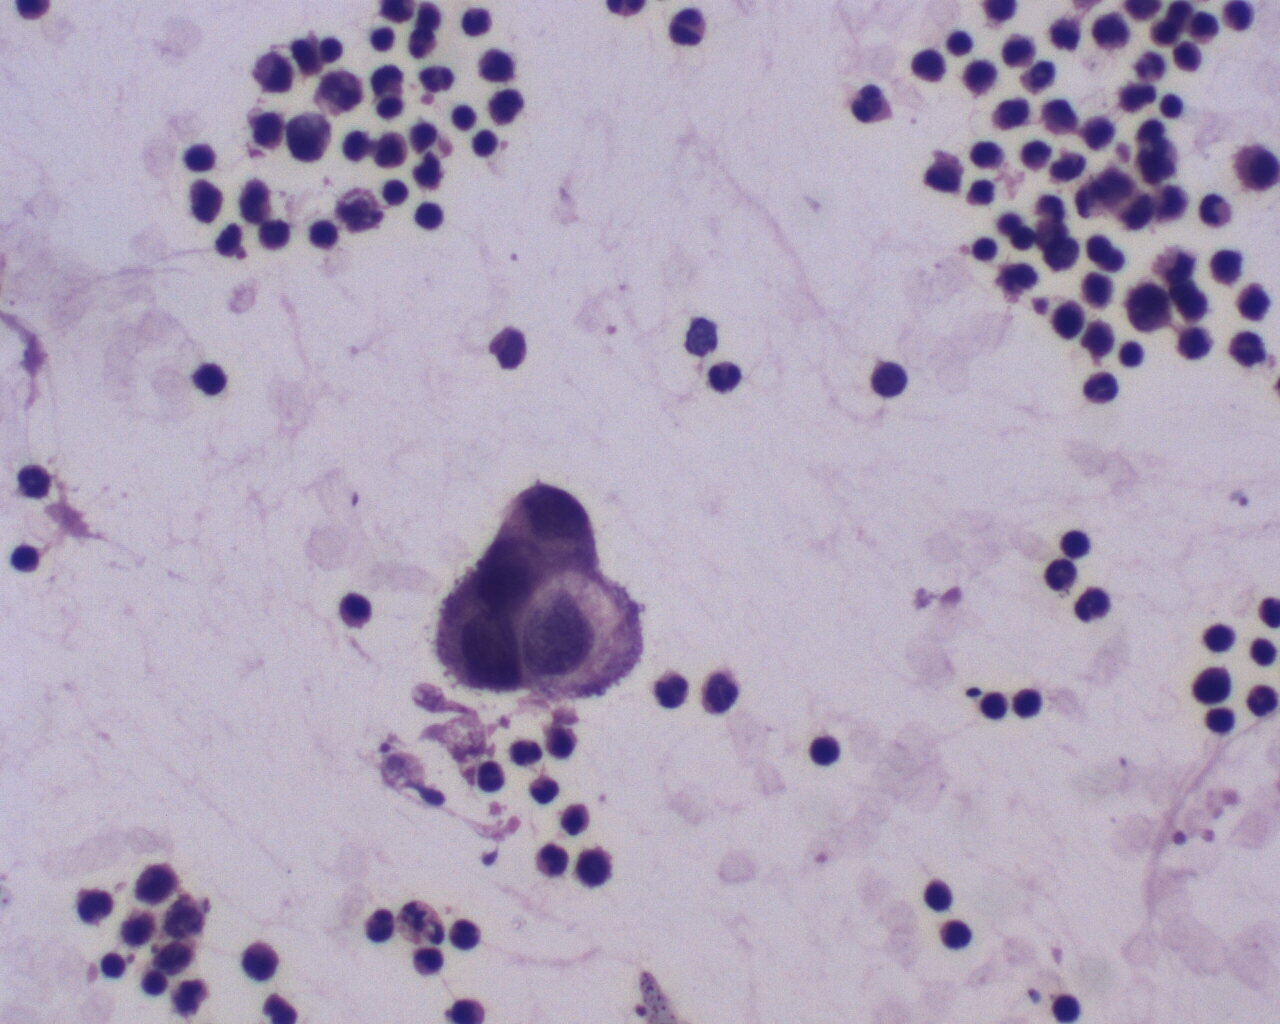ab: (521, 569, 642, 705), (435, 583, 531, 698), (506, 482, 603, 566)
lymph: (862, 350, 911, 400), (188, 358, 231, 401), (805, 731, 846, 774), (303, 214, 346, 255), (920, 874, 958, 914), (1053, 523, 1094, 562), (4, 537, 42, 577), (938, 917, 978, 955), (1202, 618, 1237, 657), (466, 123, 503, 159), (408, 197, 444, 232), (979, 688, 1014, 724), (1013, 682, 1043, 722), (367, 23, 399, 56), (968, 233, 1002, 264), (99, 949, 131, 983)
neutro: (842, 74, 891, 132), (701, 666, 740, 720), (1078, 367, 1126, 409), (1241, 678, 1280, 723), (358, 907, 400, 948), (707, 355, 748, 396), (534, 838, 571, 883), (447, 914, 487, 955), (527, 771, 561, 808)
